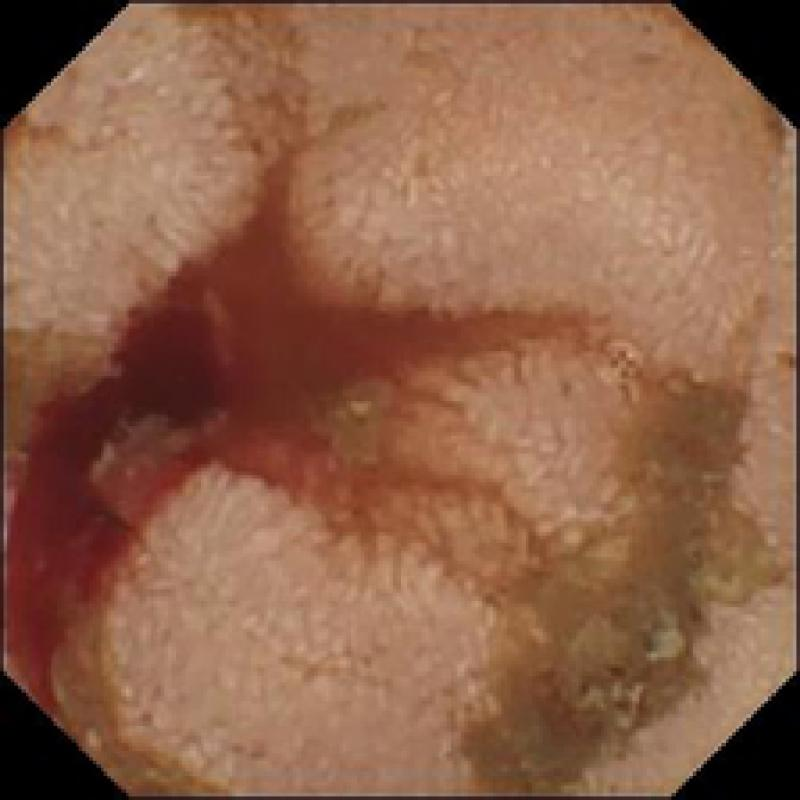bleeding: (0, 264, 339, 699)
